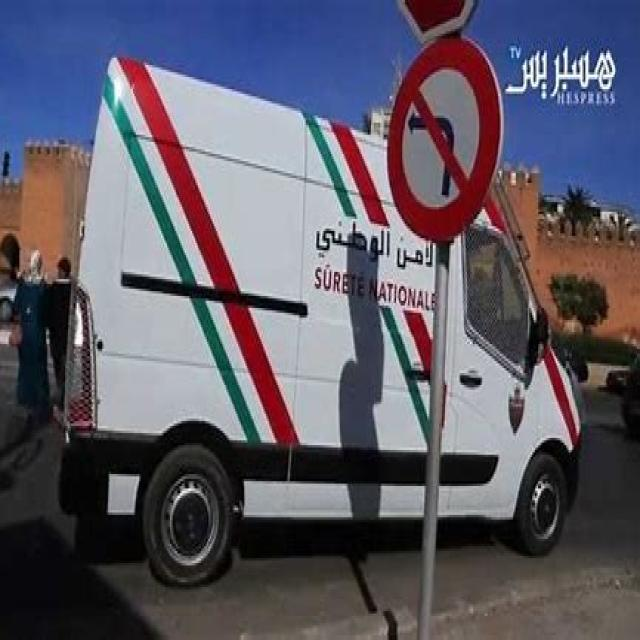police: (64, 52, 582, 574)
